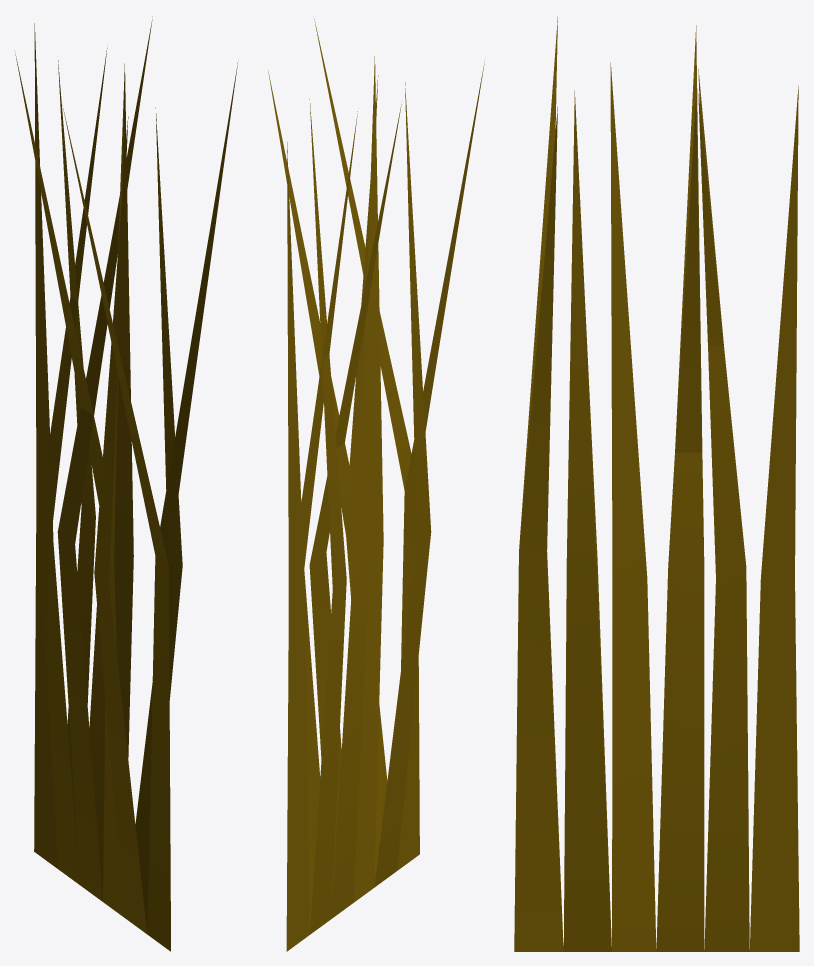
File: M_tallGrass2.fbx
3 renders of one model, left to right at view 1: azimuth 30°, elevation 25°; view 2: azimuth 150°, elevation 25°; view 3: azimuth 270°, elevation 25°, orthographic. The views are drawn at different scales.
Visible parts, largest first — view 1: pasted__leaf_low13; view 2: pasted__leaf_low13; view 3: pasted__leaf_low13.
Part boxes in pixels (x1=…): pasted__leaf_low13: x1=14, y1=16, x2=237, y2=951; pasted__leaf_low13: x1=268, y1=19, x2=484, y2=951; pasted__leaf_low13: x1=514, y1=16, x2=799, y2=951.
Bounding box in the file's own units: 6.82 × 31.55 × 9.14.
